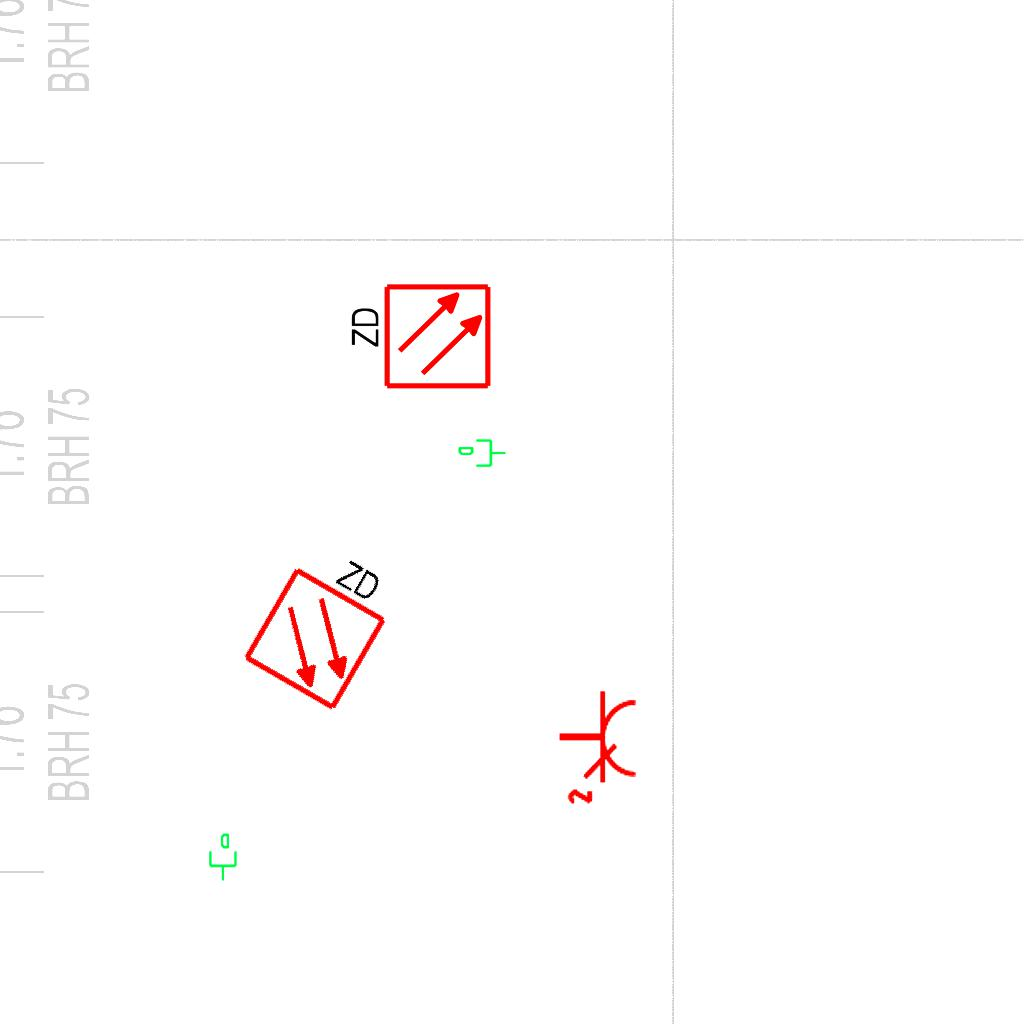Datenanschluss_einfach: (457, 437, 507, 471), (205, 832, 239, 882)
Schukosteckdose_mehrfach: (553, 686, 641, 807)
ZD_Melder_in_Zwischendecke_mit_Revisionsoeffnung_mind_40_x_40_cm: (236, 528, 410, 715), (344, 281, 493, 395)
